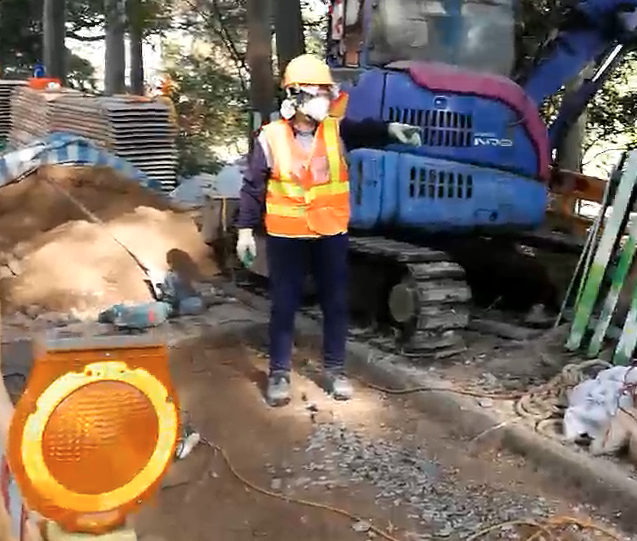Hard Hat: (281, 55, 331, 123)
Person: (237, 56, 385, 398)
Vest: (264, 88, 352, 241)
